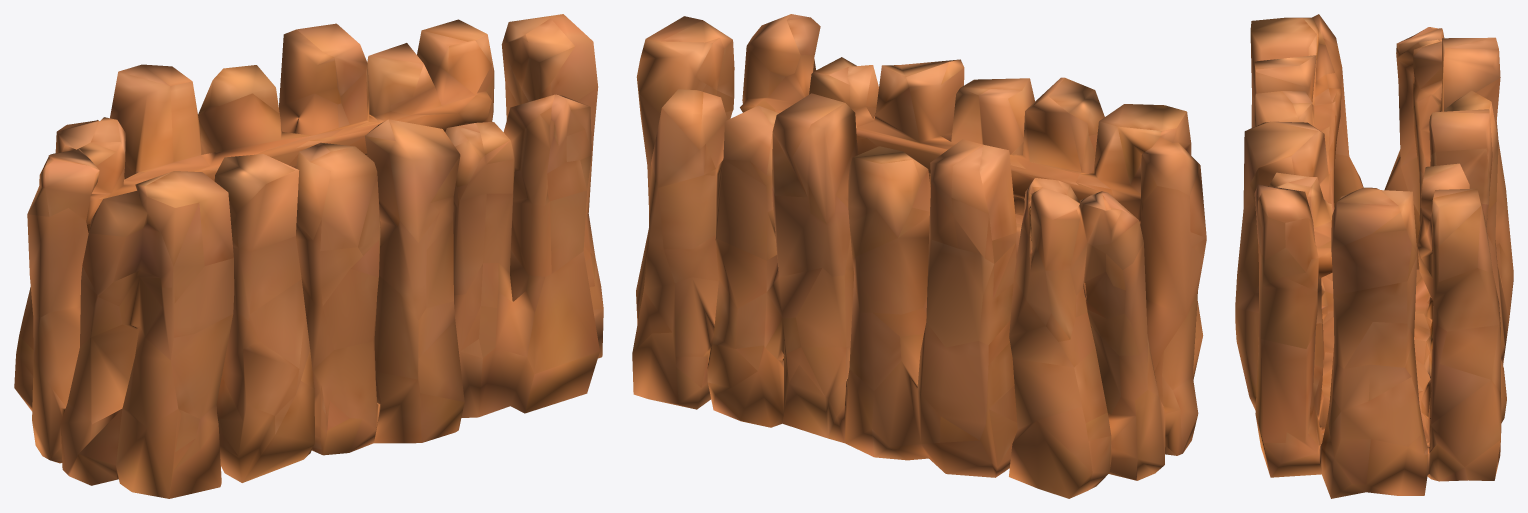
Rendered from fence.glb.
3 renders of one model, left to right at view 1: azimuth 30°, elevation 25°; view 2: azimuth 150°, elevation 25°; view 3: azimuth 270°, elevation 25°, orthographic. The views are drawn at different scales.
Bounding box in the file's own units: 1.91 × 1.09 × 0.9525.
1 material, 1 textured.
